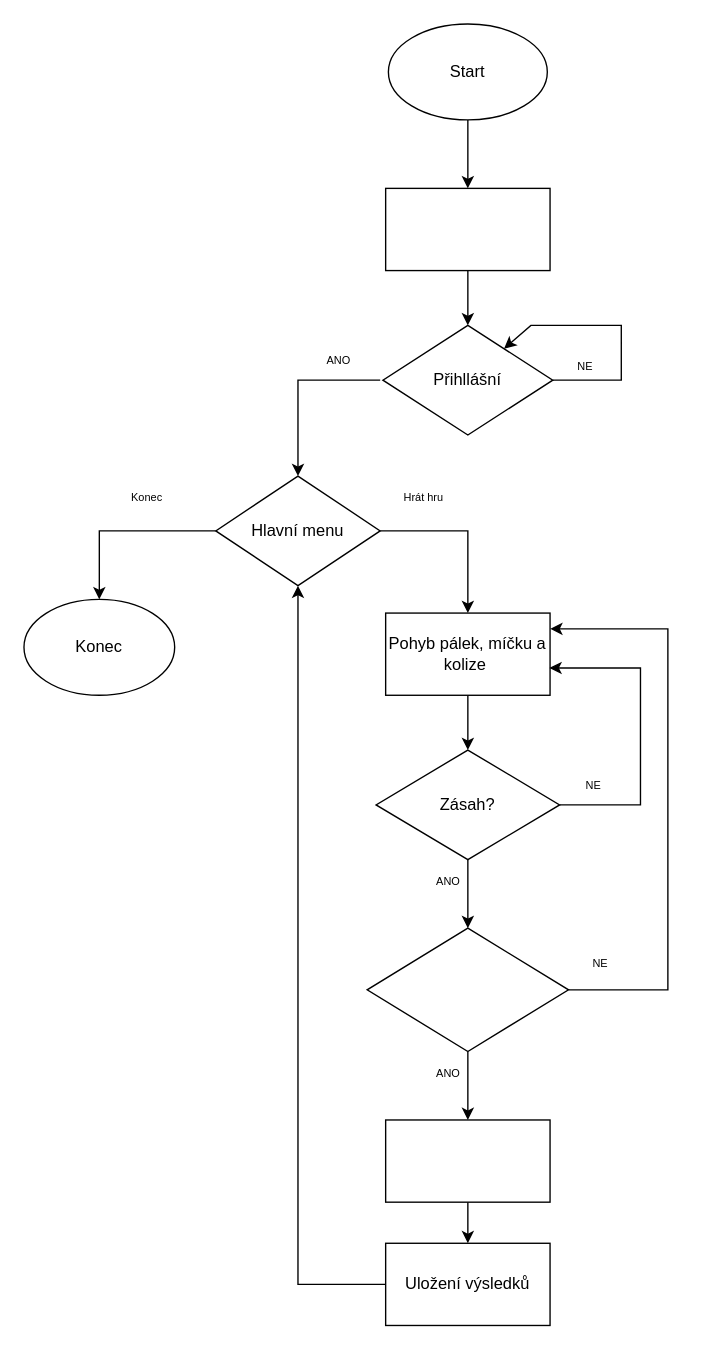
Image size: 703x1349. Some labels were removed from this diagram. The shapes that lost their labels are listed below. From the top down, each one's centre as x and y in pixels, then its label:
At (467,229): "Příprava a načtení hry".
At (467,989): "Skore jednoho hráče = 10?".
At (467,1160): "Konec Hry (vyhlášní výtěze)".
